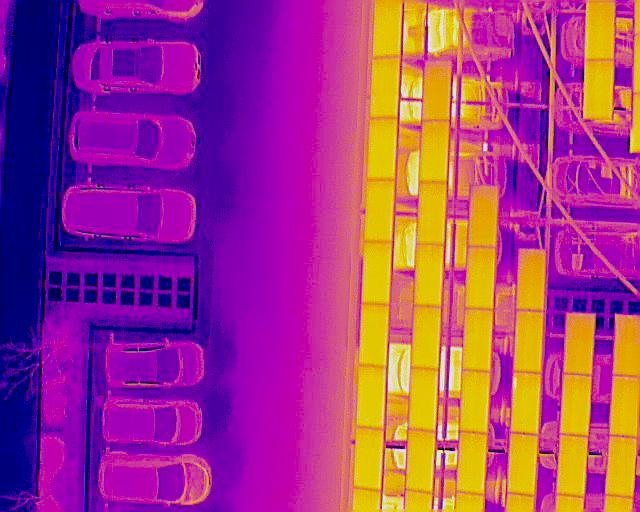Cell: (512, 372, 542, 433)
No-Anomaly: (564, 312, 595, 375), (370, 56, 401, 119), (606, 437, 637, 498), (469, 185, 499, 248), (368, 118, 398, 181), (363, 241, 392, 305), (515, 311, 545, 372), (415, 243, 444, 306), (562, 375, 592, 435), (355, 428, 384, 490), (418, 183, 447, 244), (373, 0, 404, 57), (458, 432, 486, 495), (412, 307, 441, 367), (357, 368, 386, 428), (585, 59, 614, 119), (420, 120, 448, 182), (360, 304, 388, 366), (509, 434, 537, 495), (407, 431, 435, 492), (367, 180, 395, 241), (517, 249, 545, 310), (410, 369, 438, 430), (424, 60, 452, 121), (468, 247, 495, 310), (587, 1, 616, 59), (465, 309, 492, 371), (461, 373, 489, 432), (559, 437, 587, 496), (612, 376, 638, 437)
